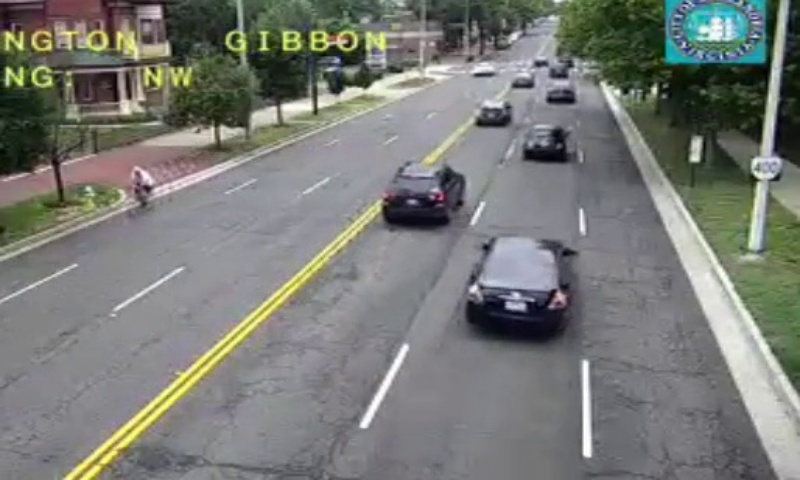car: (466, 235, 569, 328), (381, 163, 463, 222), (522, 124, 568, 157), (476, 100, 510, 124)
